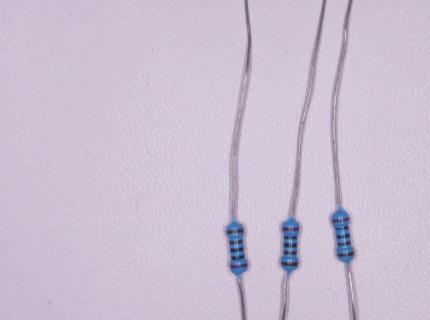Black band: (231, 247, 244, 252), (284, 242, 297, 247), (232, 255, 244, 260), (337, 234, 349, 238), (336, 226, 348, 230), (284, 236, 298, 239)
Brown band: (337, 251, 354, 257), (226, 229, 244, 234), (230, 239, 243, 245), (281, 262, 298, 266), (337, 241, 350, 245), (284, 251, 297, 254)
Red band: (332, 217, 349, 223), (230, 263, 248, 268), (282, 227, 299, 231)
